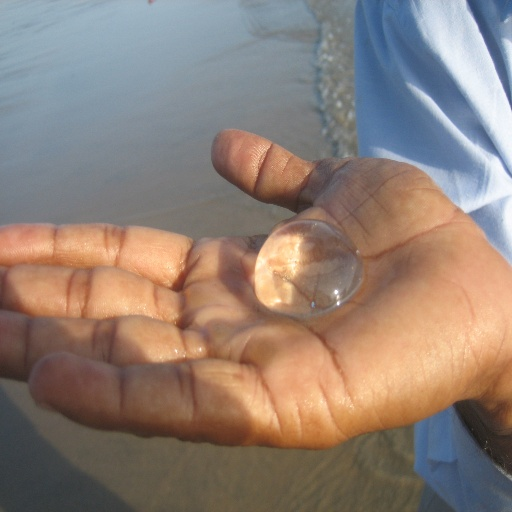hand: (0, 128, 500, 450)
